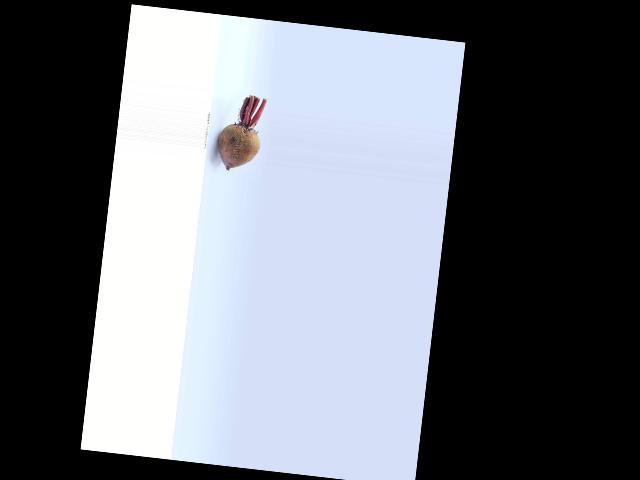beet: (215, 93, 265, 172)
